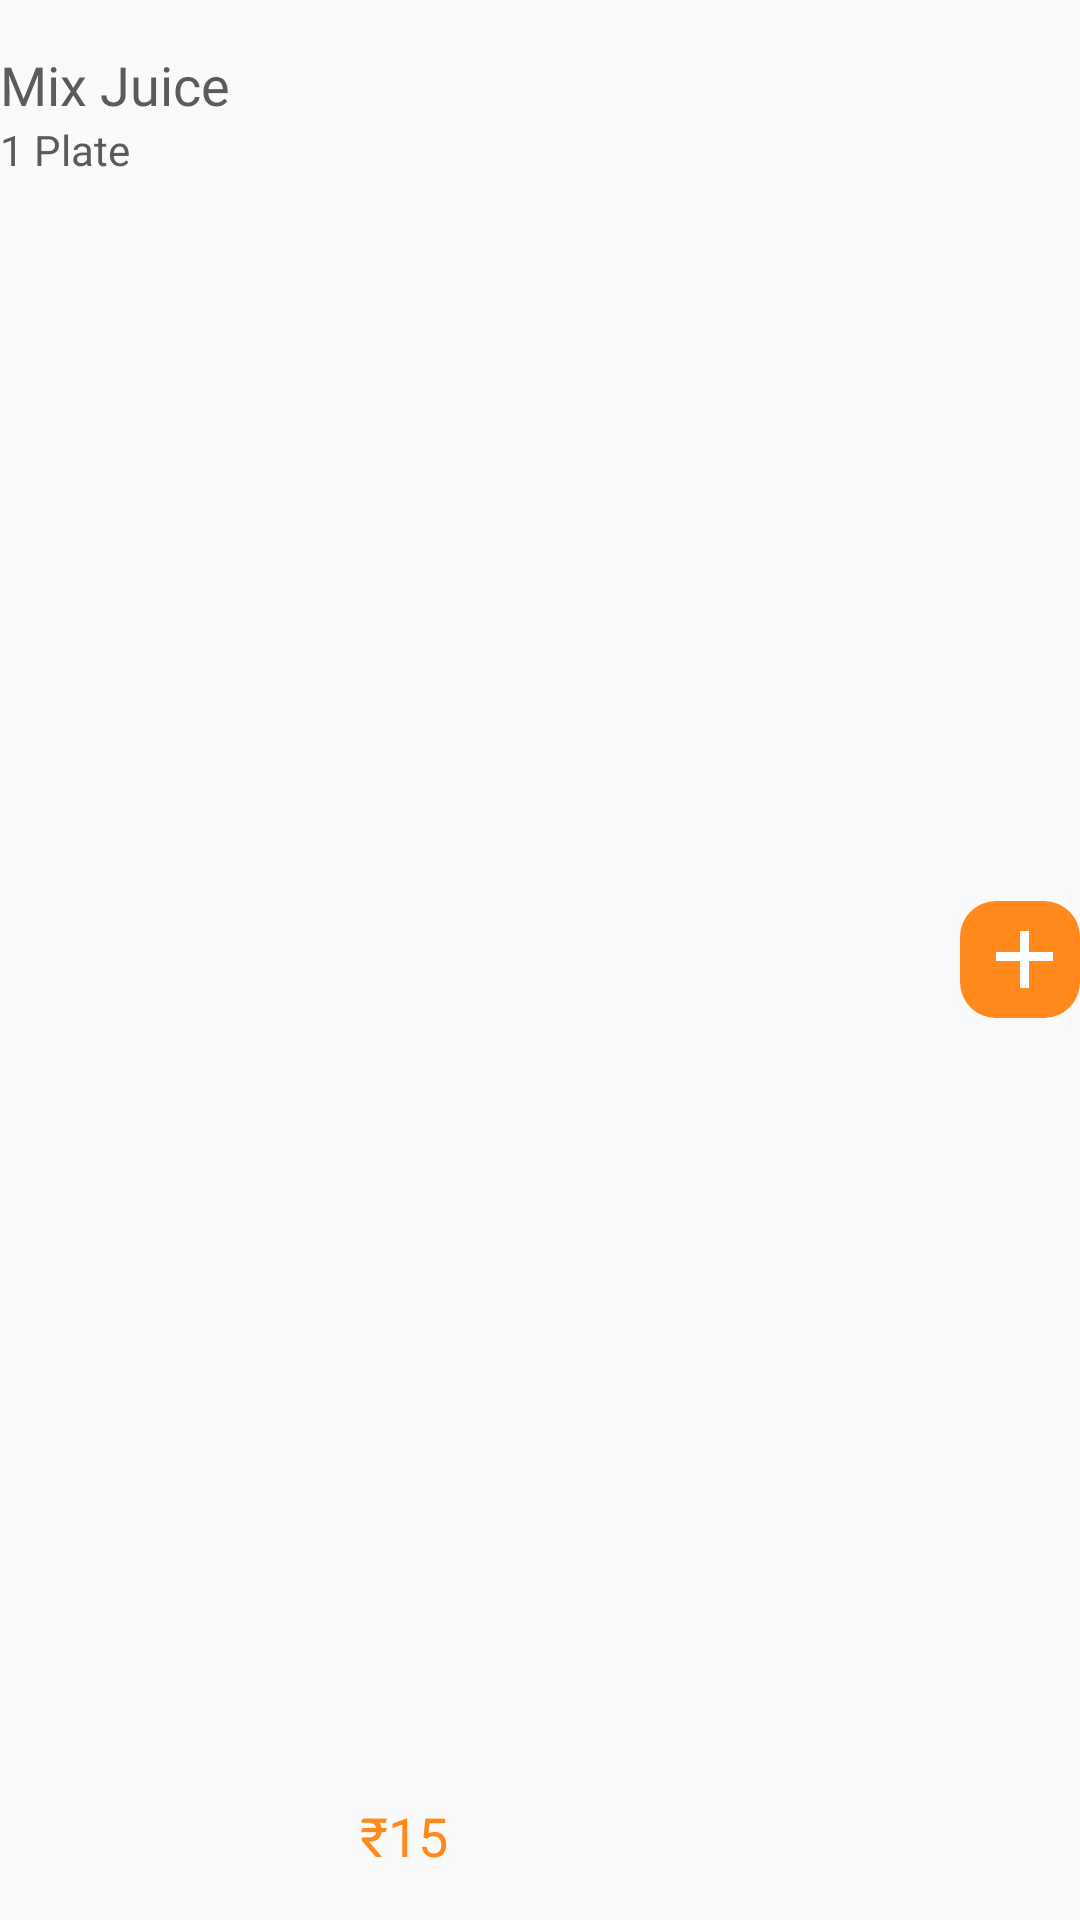

Icons on this 1080x1920 Android screen, each with its box as box=[x1, y1, x2, y2]:
add: box=[960, 901, 1080, 1018]
